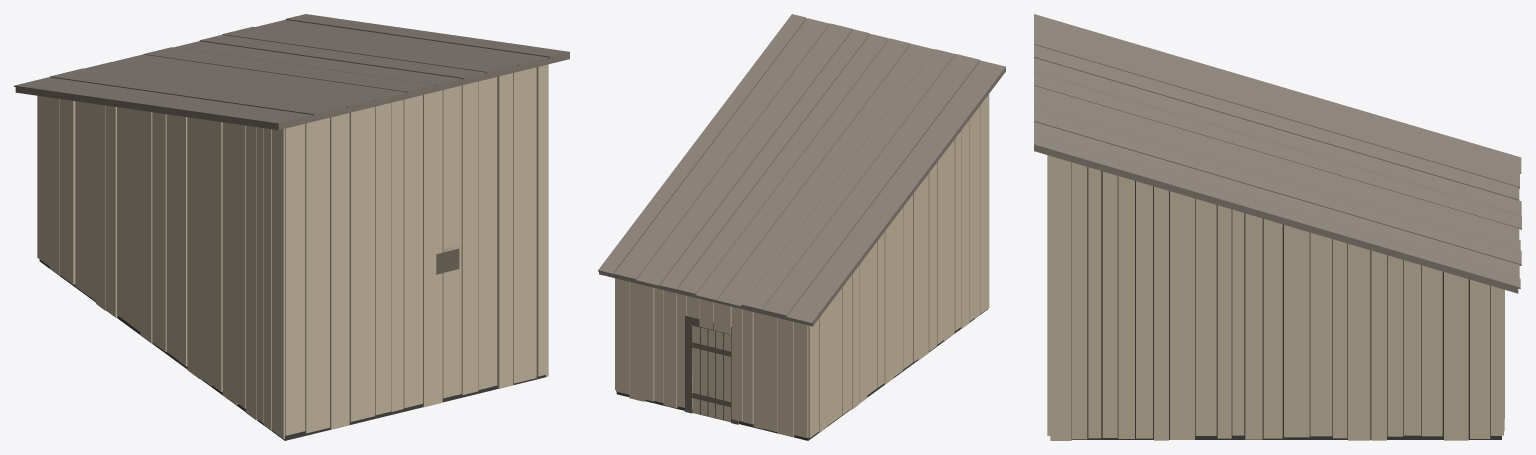
File: recon_1835_south_d2_005__inferred_1835.glb
3 views of the same model, side by side, from view 1: azimuth 30°, elevation 25°; view 2: azimuth 150°, elevation 25°; view 3: azimuth 270°, elevation 25° (orthographic). The views are drawn at different scales.
Parts seen in each view (by area): view 1: recon_1835_south_d2_005__inferred_1835; view 2: recon_1835_south_d2_005__inferred_1835; view 3: recon_1835_south_d2_005__inferred_1835.
Boxes of the visible parts, x1,y1,x2,y2 form: recon_1835_south_d2_005__inferred_1835: (14, 14, 569, 440); recon_1835_south_d2_005__inferred_1835: (598, 14, 1005, 440); recon_1835_south_d2_005__inferred_1835: (1034, 14, 1521, 440).
Size of the model in its own units: 4.75 by 5.11 by 7.47.
